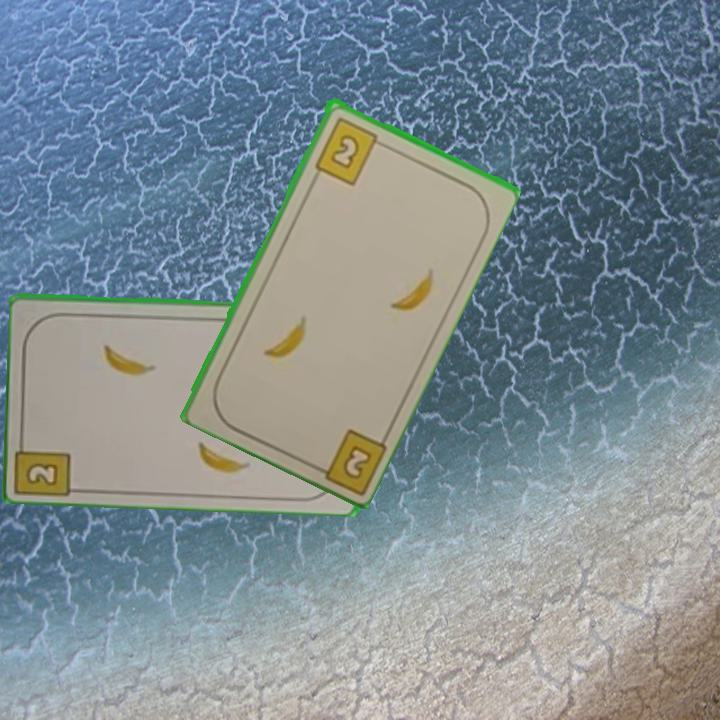2b: (310, 113, 388, 188), (306, 424, 389, 494), (15, 429, 76, 496)
